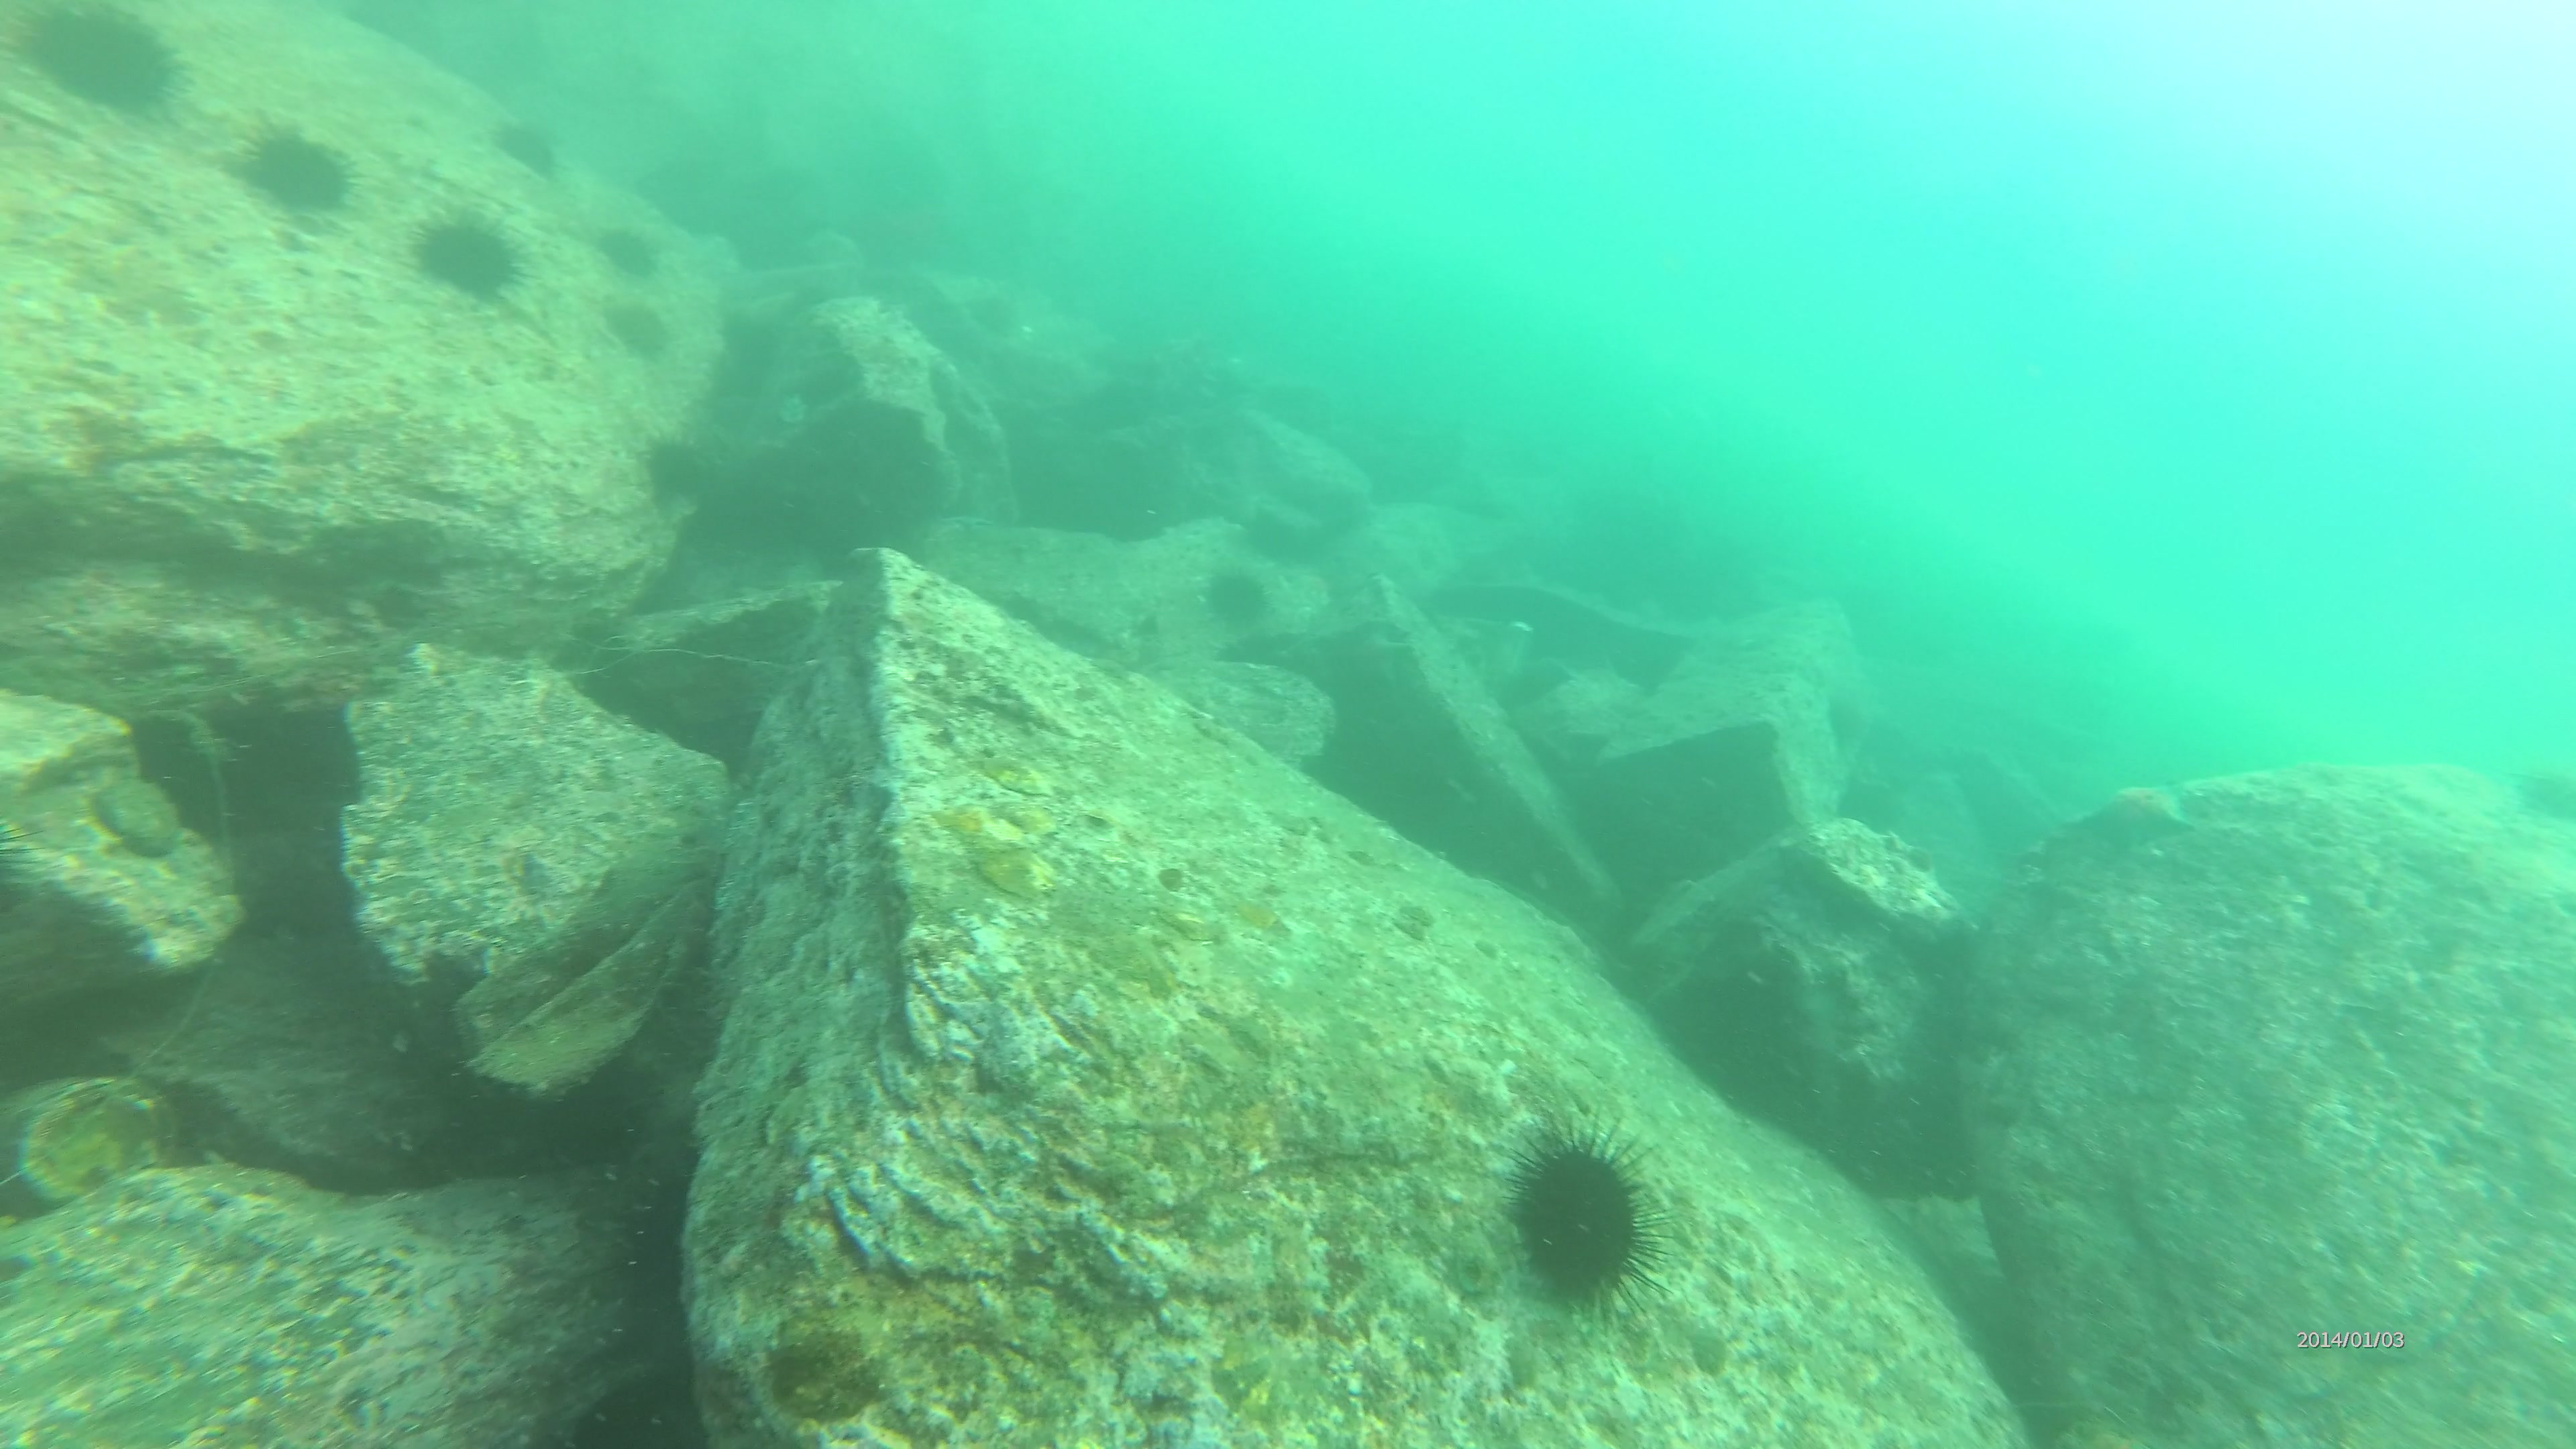echinus: (1499, 1108, 1688, 1334), (0, 0, 200, 122), (226, 108, 375, 223), (405, 203, 533, 308), (635, 441, 718, 510), (492, 119, 566, 188), (600, 297, 678, 363), (593, 219, 660, 287), (1207, 563, 1272, 621)
